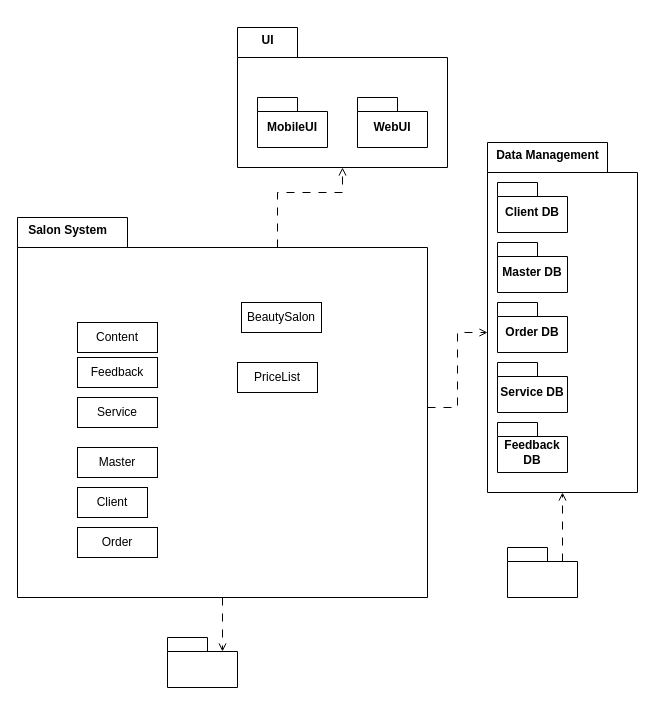
This 655x705 diagram has some shape labels left out. The box of each missing label's shape, as (x1, y1, x2, y2) in pixels:
Analytics System: (506, 546, 578, 598)
External System: (166, 636, 238, 688)
